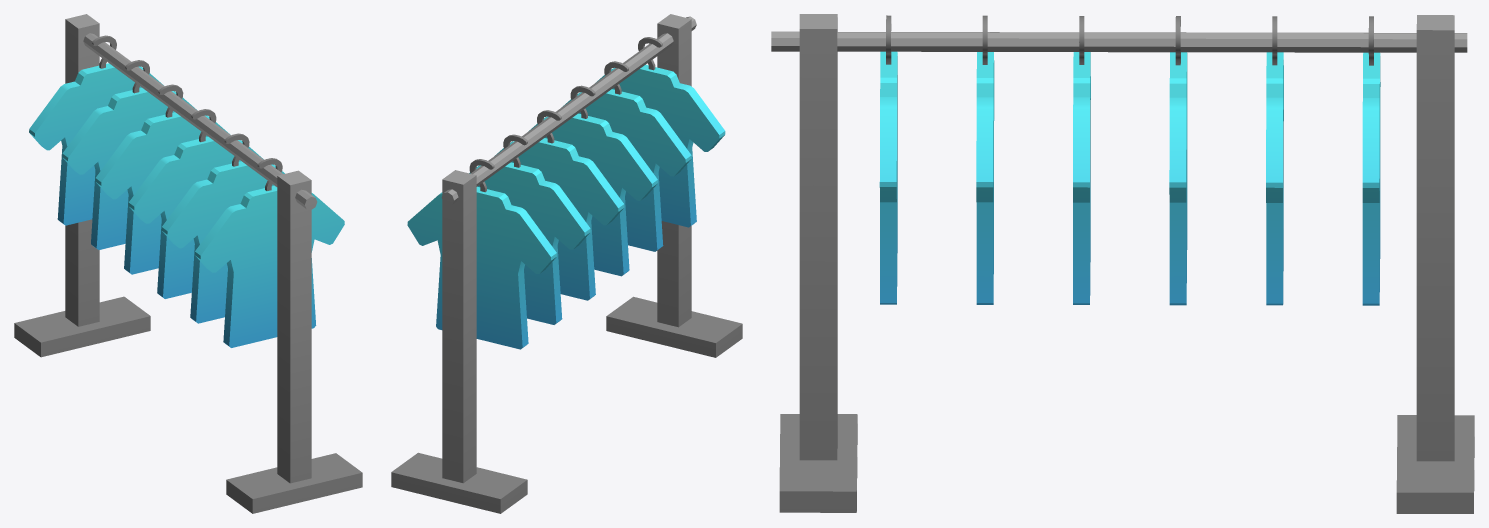
File: cloth stand blue.fbx
The picture shows the model from 3 angles, left to right: view 1: azimuth 30°, elevation 25°; view 2: azimuth 150°, elevation 25°; view 3: azimuth 270°, elevation 25°; orthographic projection. The views are drawn at different scales.
Visible parts, largest first — view 1: cloth_stand_blue; view 2: cloth_stand_blue; view 3: cloth_stand_blue.
Boxes of the visible parts, bbox=[...] form: cloth_stand_blue: bbox=[14, 14, 362, 513]; cloth_stand_blue: bbox=[391, 14, 742, 513]; cloth_stand_blue: bbox=[771, 14, 1474, 513].
Bounding box in the file's own units: 137 × 282 × 396.
Materials: 1 (1 with a texture image).
